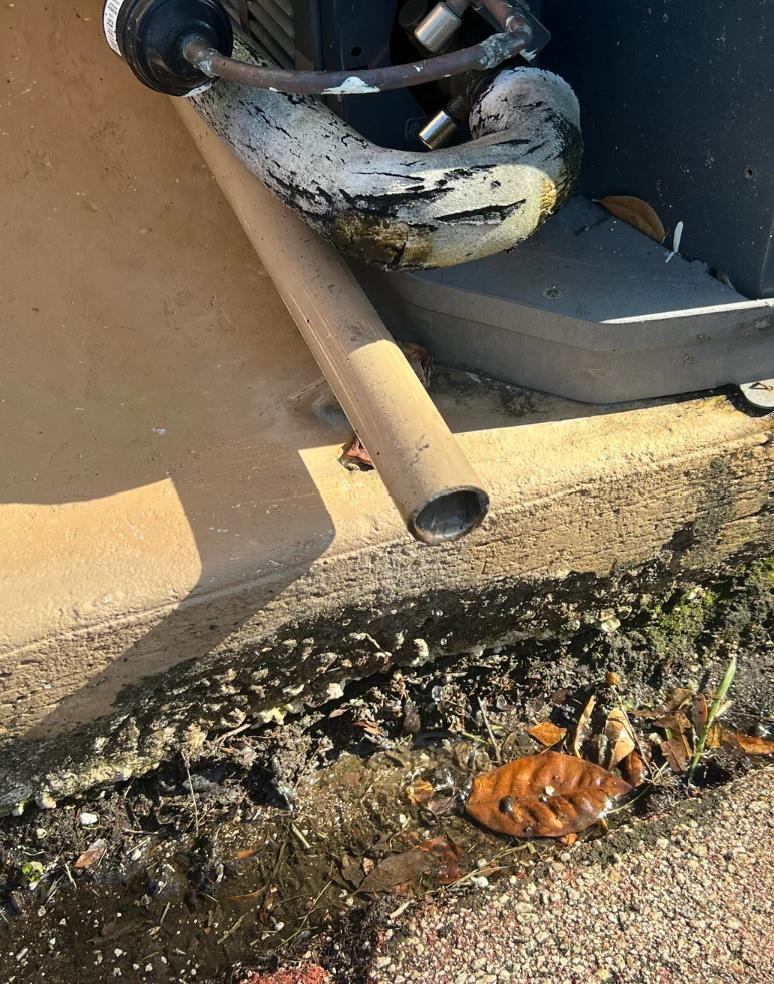water accumulation: (0, 535, 774, 984)
